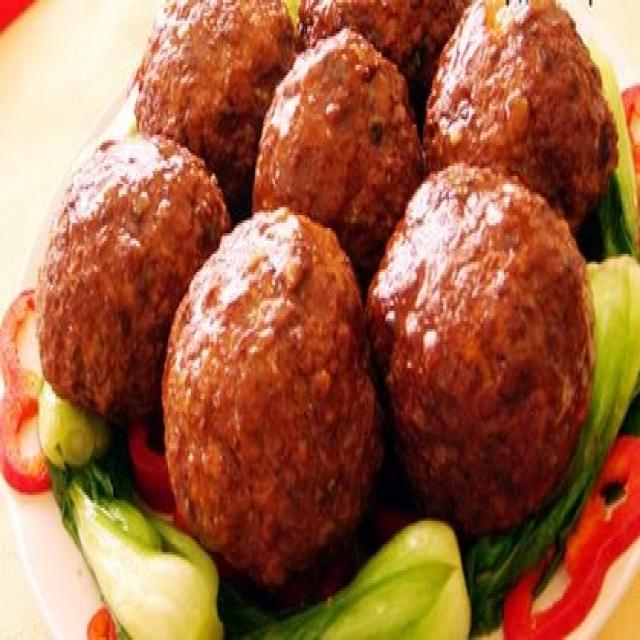Meatball: (157, 200, 396, 598), (360, 153, 598, 541), (34, 122, 230, 438), (417, 0, 622, 257), (248, 15, 430, 280), (136, 0, 301, 200)
